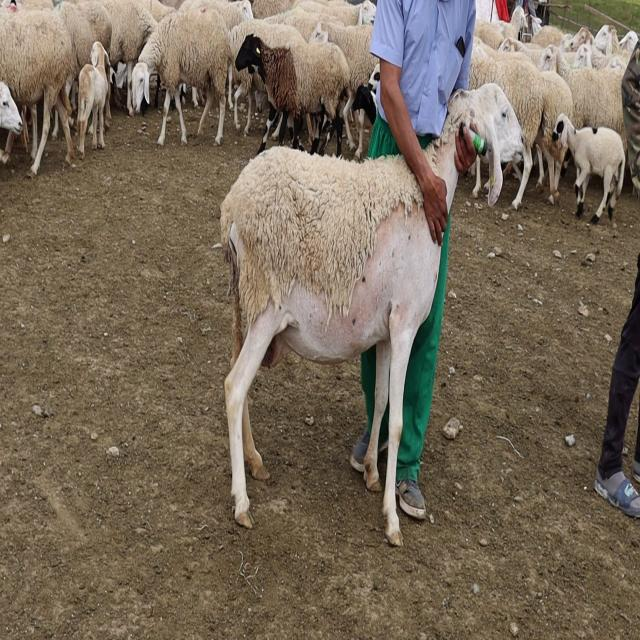Score_2: (220, 146, 443, 546), (421, 83, 529, 229)
